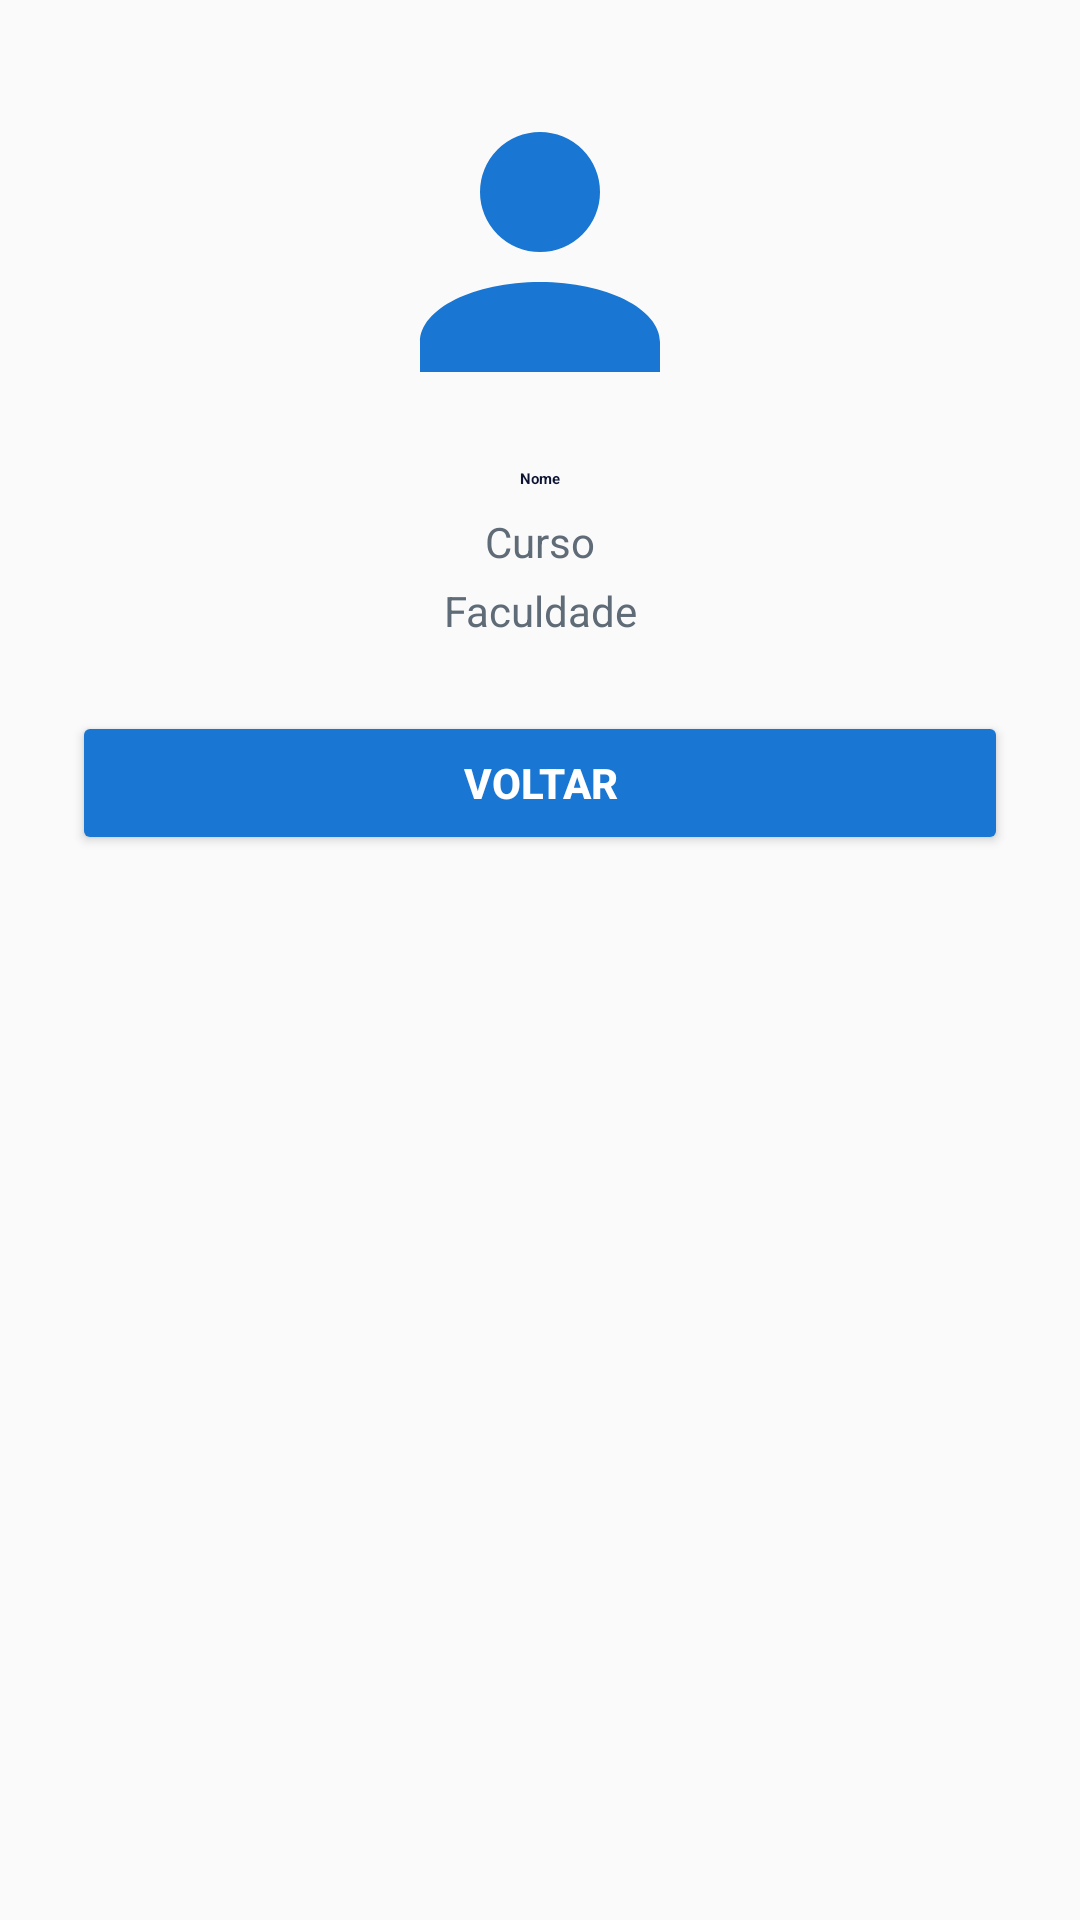

Icons on this 1080x1920 Android screen, each with the point to tap as (x=x, y=y):
Foto de perfil do aluno: (x=540, y=252)
